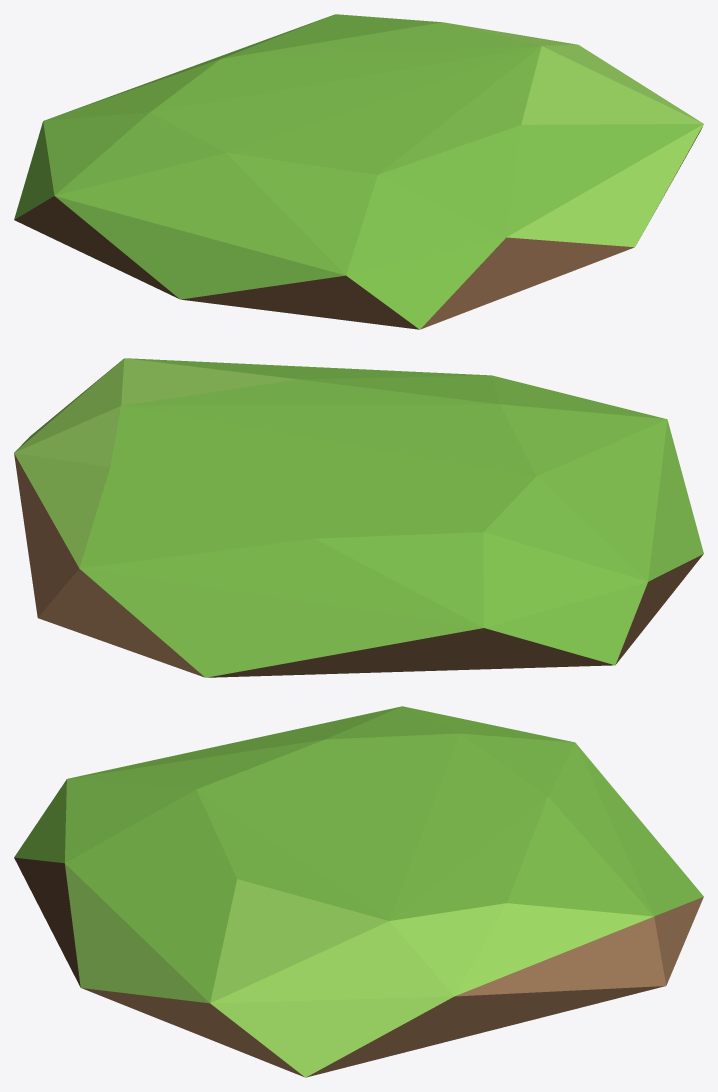
Rendered from rock_smallFlatA.glb.
3 views of the same model, one above another, from view 1: azimuth 30°, elevation 25°; view 2: azimuth 150°, elevation 25°; view 3: azimuth 270°, elevation 25° (orthographic). The views are drawn at different scales.
Visible parts, largest first — view 1: rock_smallFlatA; view 2: rock_smallFlatA; view 3: rock_smallFlatA.
Boxes of the visible parts, bbox=[...] form: rock_smallFlatA: bbox=[14, 14, 703, 329]; rock_smallFlatA: bbox=[14, 358, 703, 677]; rock_smallFlatA: bbox=[14, 706, 703, 1077].
Bounding box in the file's own units: 0.4336 × 0.0582 × 0.3929.
1 material, 1 textured.
